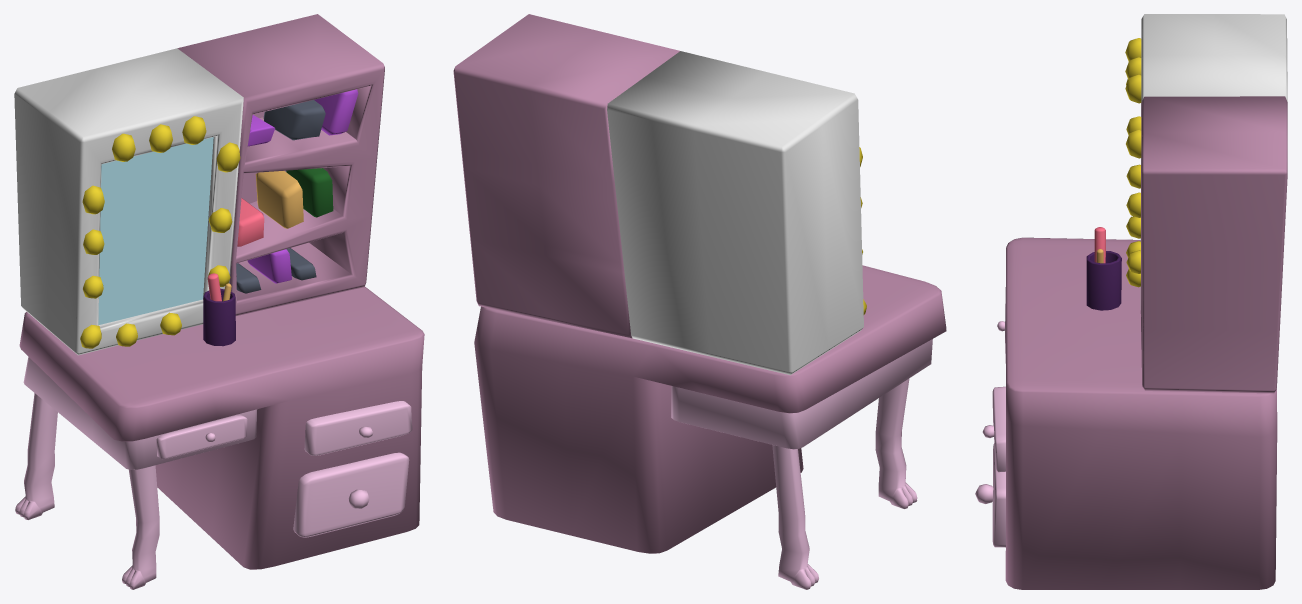
Rendered from props_vanity.fbx.
3 renders of one model, left to right at view 1: azimuth 30°, elevation 25°; view 2: azimuth 150°, elevation 25°; view 3: azimuth 270°, elevation 25°, orthographic. The views are drawn at different scales.
Parts seen in each view (by area): view 1: Vanity; view 2: Vanity; view 3: Vanity.
Part boxes in pixels (x1,y1,x2,y2): Vanity: [14, 14, 424, 589]; Vanity: [453, 14, 946, 589]; Vanity: [975, 14, 1287, 589].
Bounding box in the file's own units: 231 × 279 × 180.
